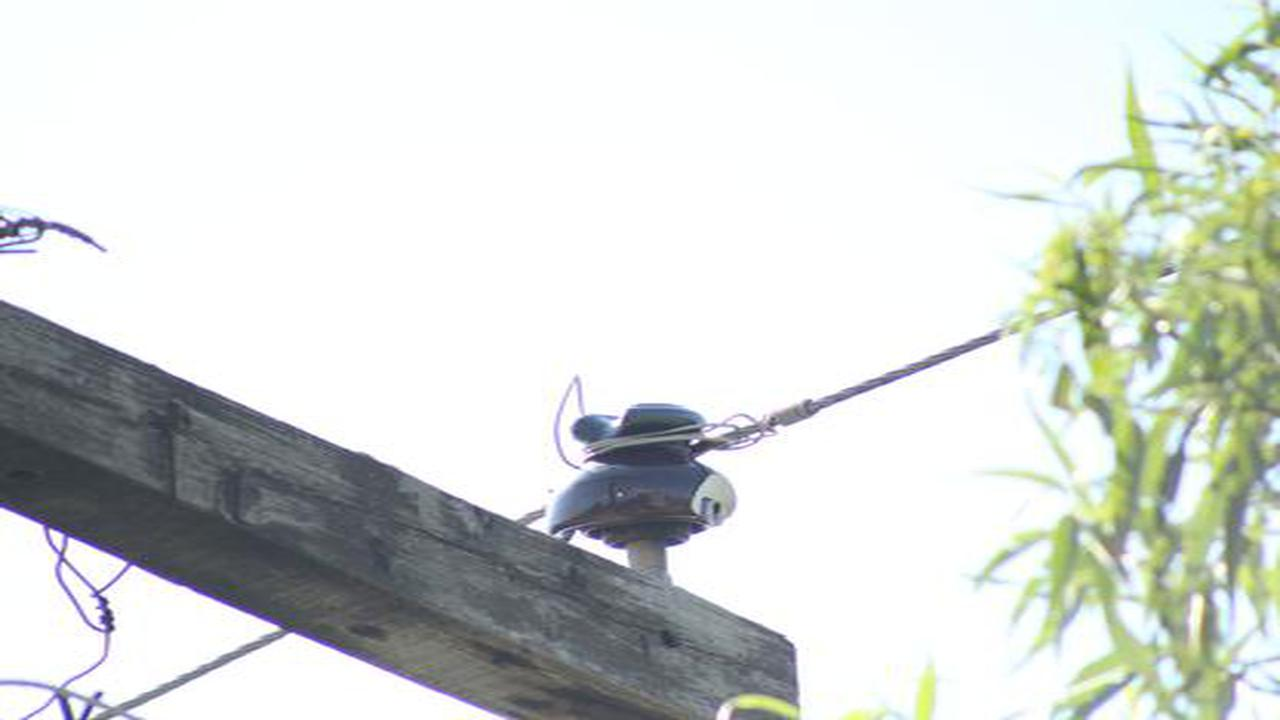defect_pin: (542, 393, 745, 554)
